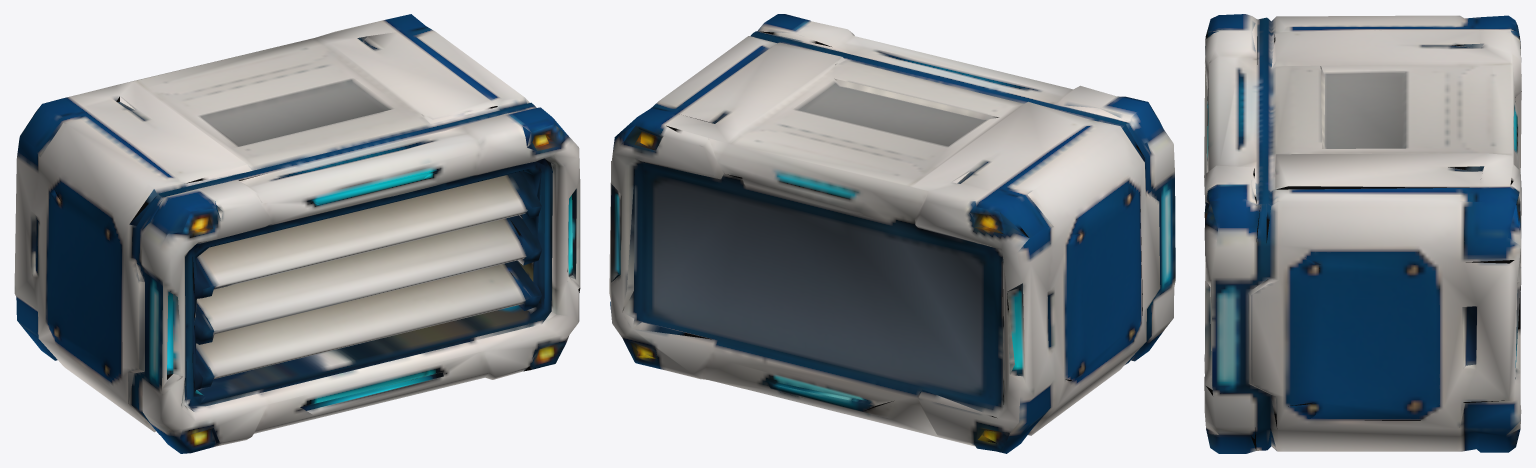
The model's file is cryo-ventilation-unit_LOD0.glb.
3 views of the same model, side by side, from view 1: azimuth 30°, elevation 25°; view 2: azimuth 150°, elevation 25°; view 3: azimuth 270°, elevation 25° (orthographic). The views are drawn at different scales.
Parts seen in each view (by area): view 1: cryo-ventilation-unit_LOD0; view 2: cryo-ventilation-unit_LOD0; view 3: cryo-ventilation-unit_LOD0.
Boxes of the visible parts, x1,y1,x2,y2 form: cryo-ventilation-unit_LOD0: [14, 14, 580, 453]; cryo-ventilation-unit_LOD0: [609, 14, 1175, 453]; cryo-ventilation-unit_LOD0: [1204, 14, 1521, 453].
Size of the model in its own units: 1.26 by 0.6954 by 0.7852.
Materials: 1 (1 with a texture image).
